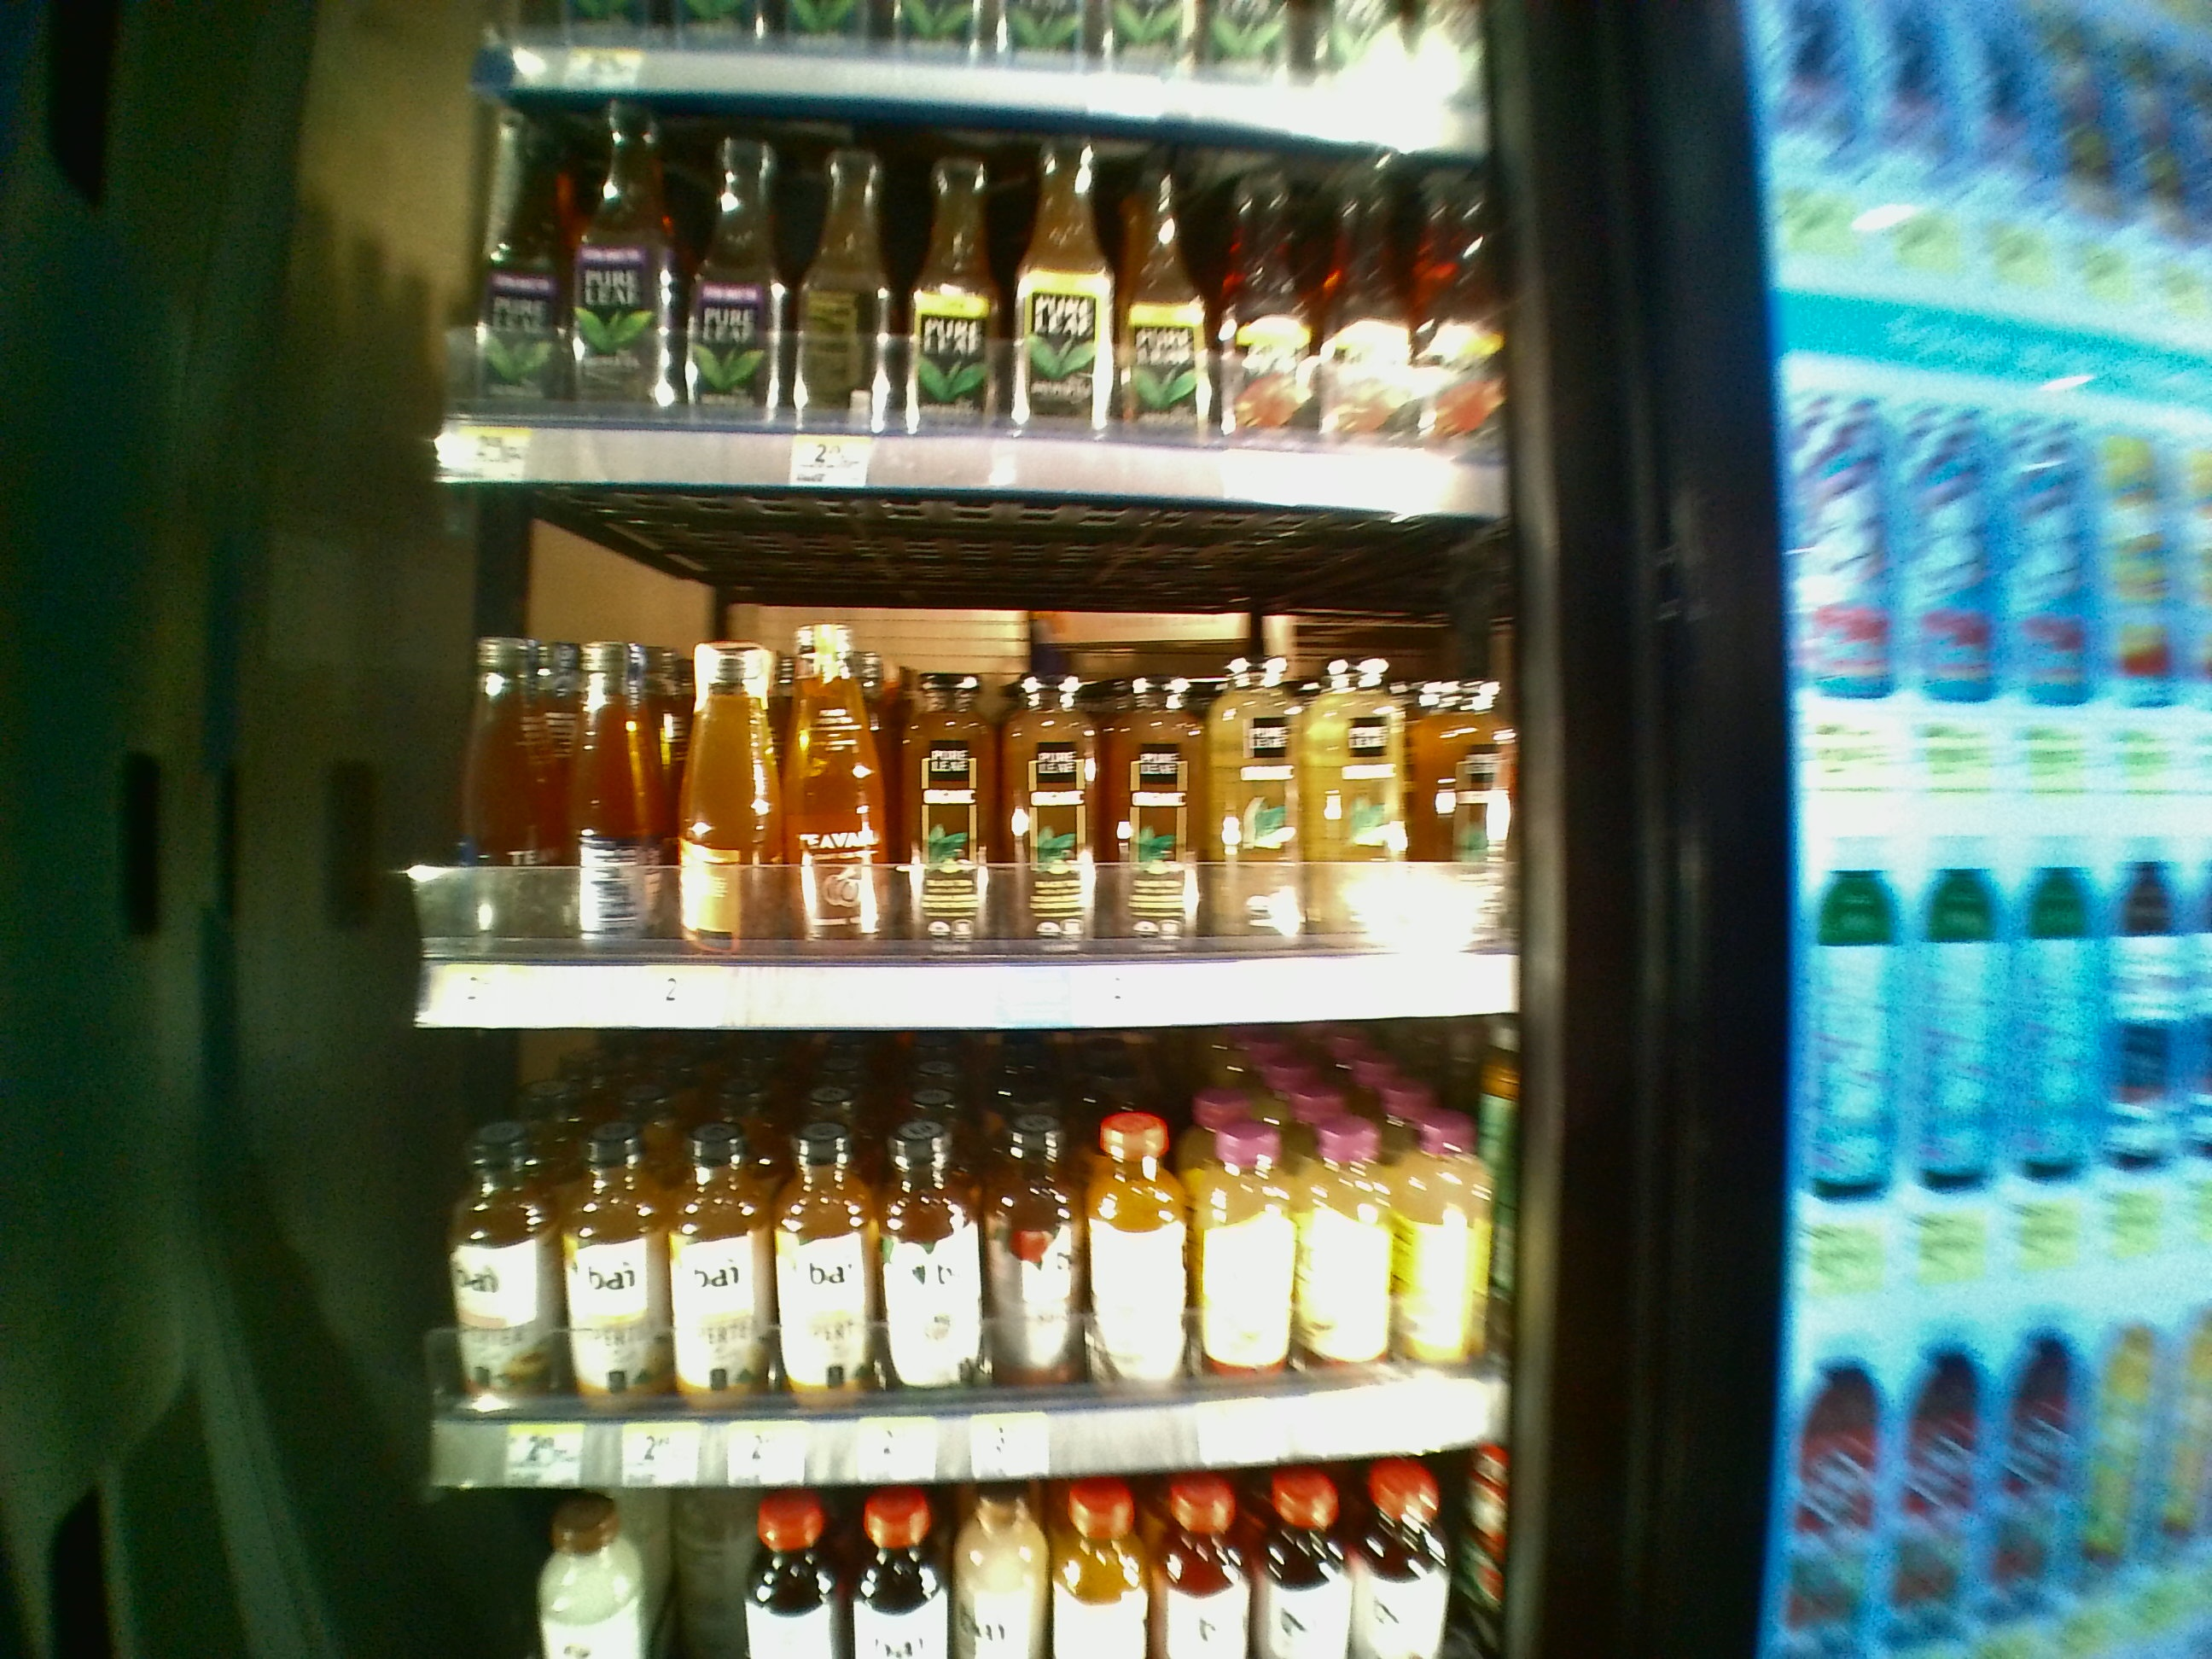shelf: (420, 481, 1526, 1030), (411, 1042, 1526, 1493), (444, 94, 1501, 483)
